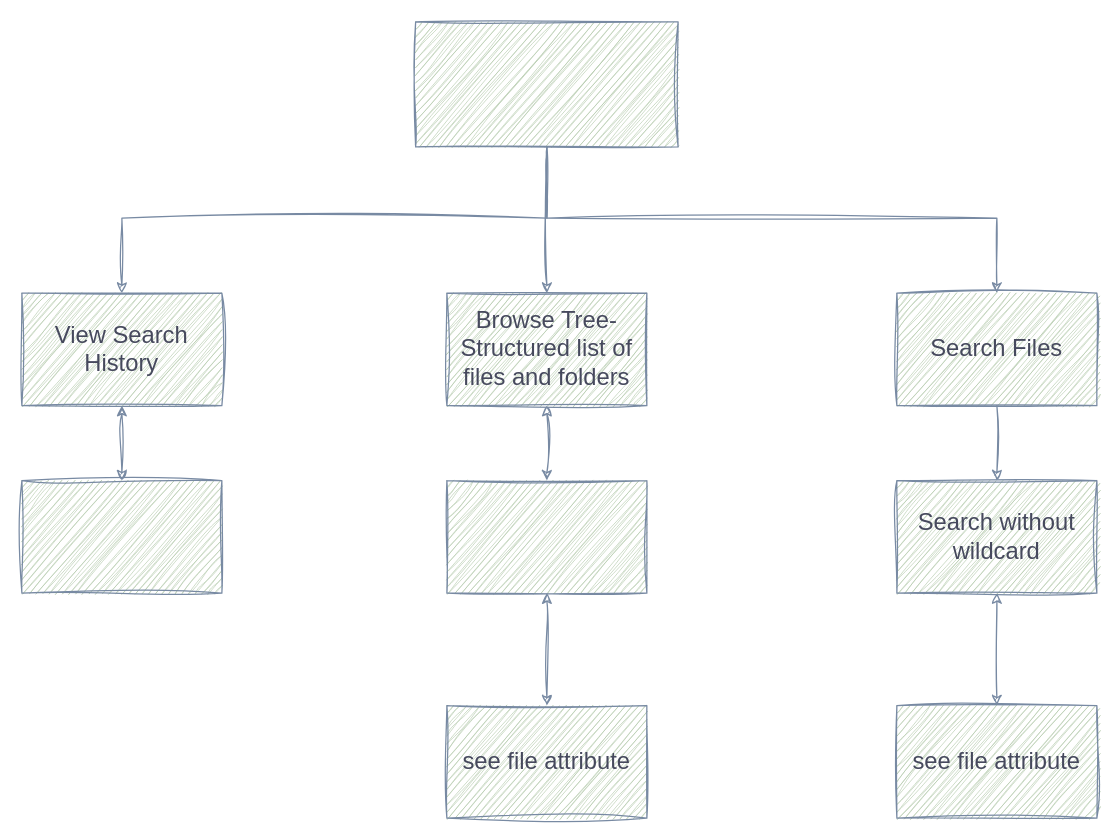
Image size: 1119x840. Some labels were removed from this diagram. Here are the shapes that lost their labels. From the top down, the box of each, then its label:
(414, 21, 678, 147): Landing Page
(21, 479, 222, 593): Export Search History
(446, 479, 647, 593): Navigate through folder
